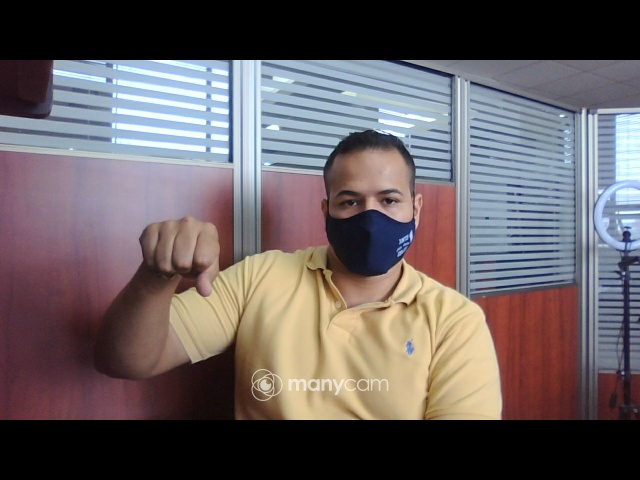Yes: (138, 213, 228, 298)
